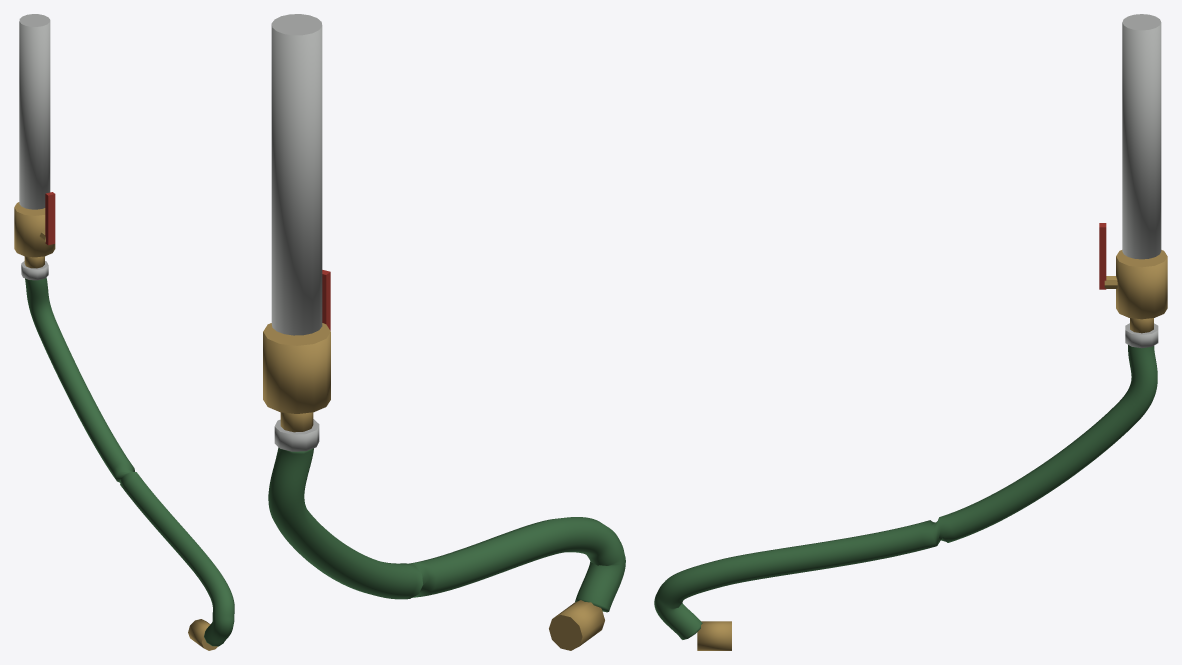
File: barrel_fill.obj
The picture shows the model from 3 angles, left to right: view 1: azimuth 30°, elevation 25°; view 2: azimuth 150°, elevation 25°; view 3: azimuth 270°, elevation 25°; orthographic projection. The views are drawn at different scales.
Parts seen in each view (by area): view 1: hose, pipe4, valve_body, valve_lever, nozzle, hose_collar; view 2: hose, pipe4, valve_body, nozzle, hose_collar, hose_barb; view 3: hose, pipe4, valve_body, nozzle.
Part boxes in pixels (x1,y1,x2,y2): hose: (25, 277, 234, 646); pipe4: (19, 14, 50, 209); valve_body: (14, 202, 55, 257); valve_lever: (45, 192, 55, 245); nozzle: (188, 619, 217, 650); hose_collar: (21, 261, 48, 280); hose: (268, 447, 625, 612); pipe4: (271, 14, 322, 335); valve_body: (263, 323, 330, 413); nozzle: (549, 600, 604, 650); hose_collar: (274, 419, 319, 451); hose_barb: (280, 412, 313, 432); hose: (654, 345, 1157, 639); pipe4: (1122, 14, 1161, 259); valve_body: (1116, 250, 1167, 319); nozzle: (697, 621, 731, 650).
Size of the model in its own units: 0.099 by 1.2 by 0.8942.
4 materials, 4 textured.
